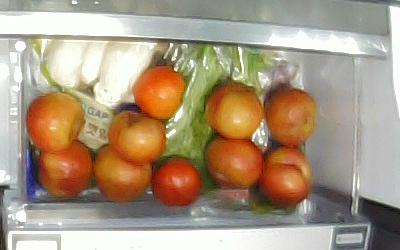prune: (96, 144, 154, 202), (204, 82, 263, 139), (204, 132, 263, 188), (27, 95, 87, 150), (38, 141, 94, 199), (261, 146, 313, 207), (265, 89, 318, 148), (110, 110, 165, 165), (134, 66, 185, 121), (155, 157, 200, 207)
